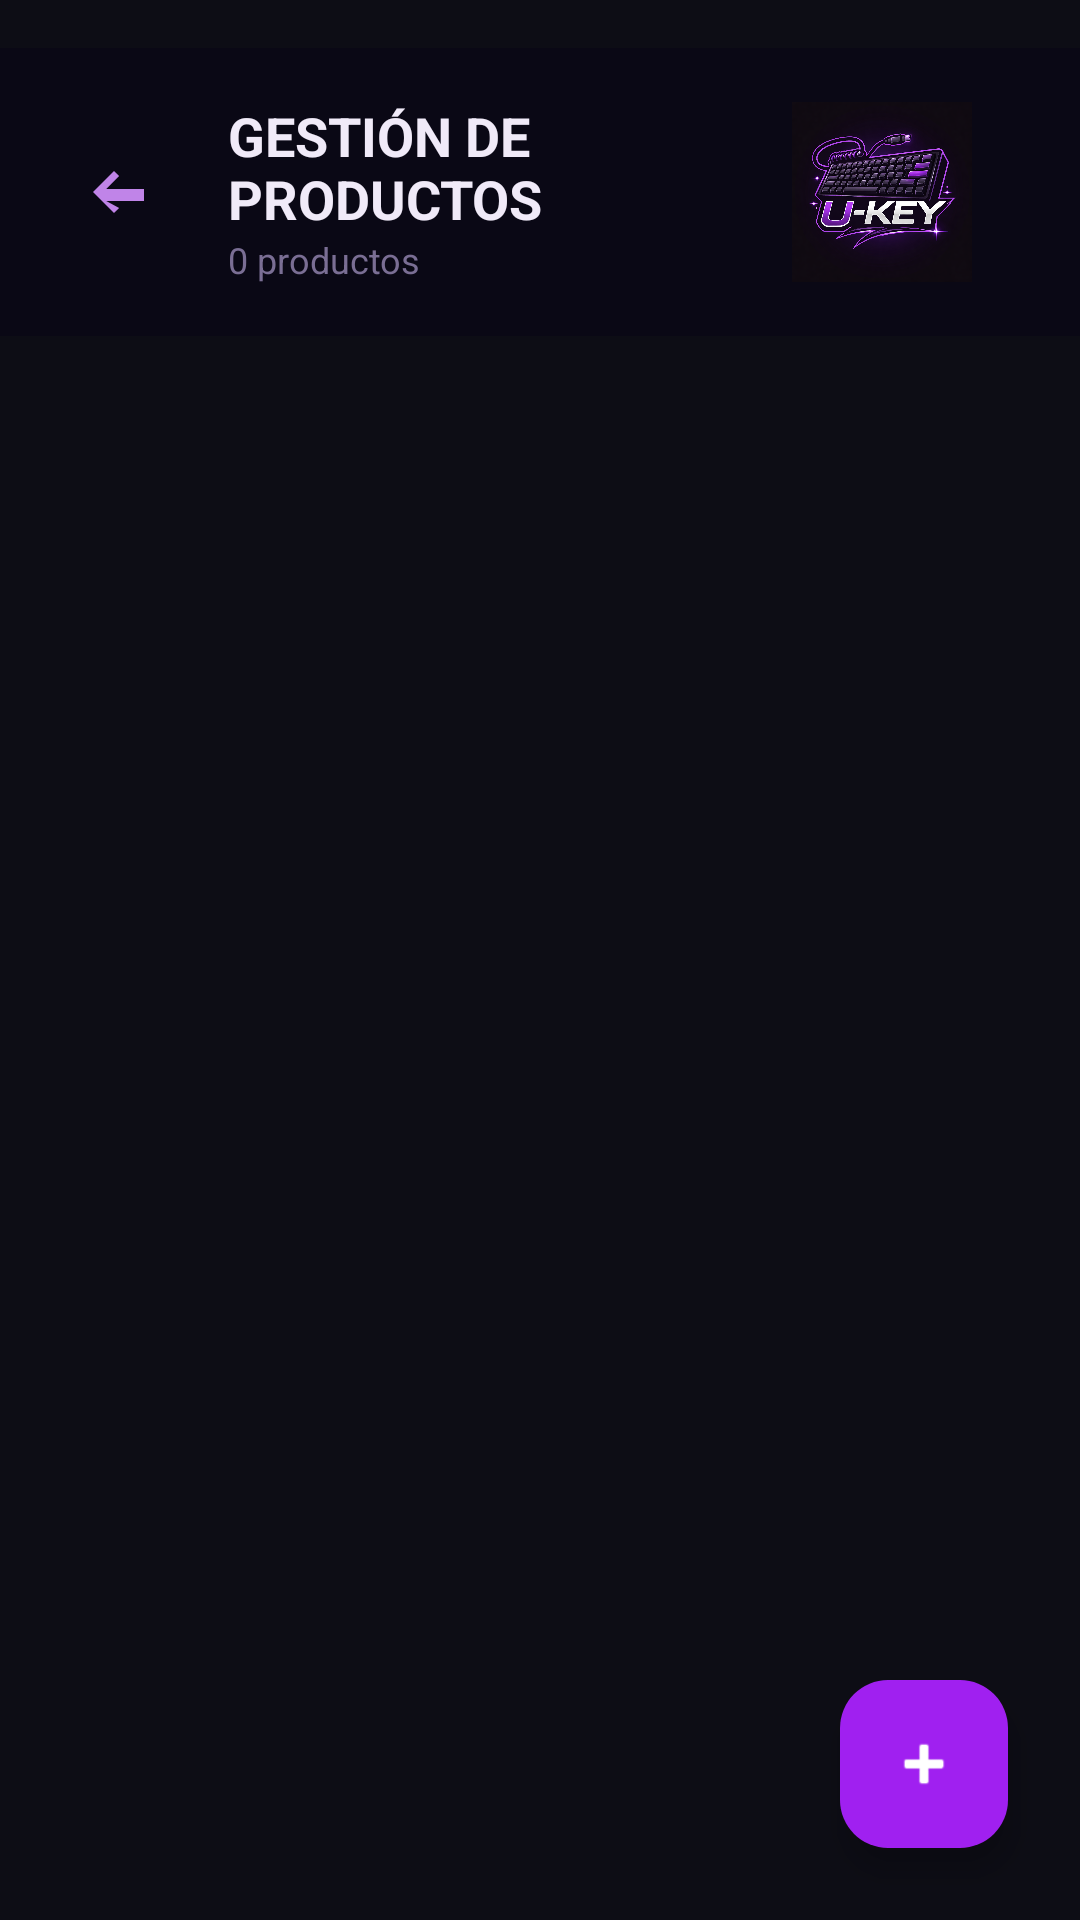

Point at icon controls on the screen. Image size 1080x1920, points as [x,y].
Añadir producto: [924,1764]
Volver: [118,192]
